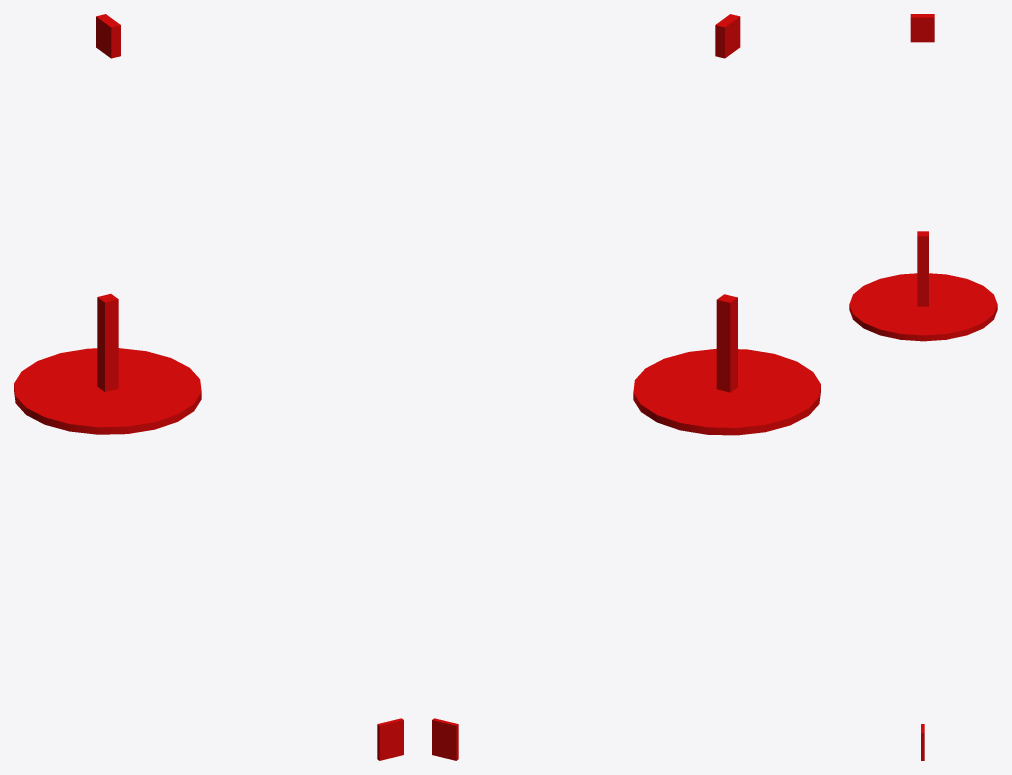
Rendered from Light03Collider.fbx.
3 renders of one model, left to right at view 1: azimuth 30°, elevation 25°; view 2: azimuth 150°, elevation 25°; view 3: azimuth 270°, elevation 25°, orthographic. The views are drawn at different scales.
Parts seen in each view (by area): view 1: Light03Collision; view 2: Light03Collision; view 3: Light03Collision.
Part boxes in pixels (x1,y1,x2,y2): Light03Collision: [14, 14, 403, 760]; Light03Collision: [432, 14, 820, 760]; Light03Collision: [849, 14, 997, 760].
Size of the model in its own units: 139 by 284 by 60.35.
